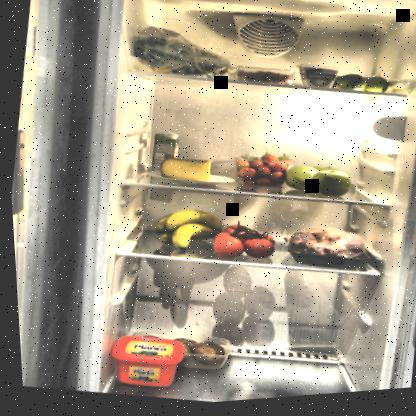apple: (276, 161, 353, 207)
banana: (144, 204, 224, 261)
butter: (99, 330, 184, 397)
cheese: (153, 154, 213, 190)
chicken: (274, 219, 375, 282)
heavy_cream: (144, 131, 180, 181)
lime: (333, 74, 390, 103)
potato: (163, 330, 231, 375)
shrimp: (237, 69, 294, 93)
spinach: (122, 19, 242, 92)
strawberries: (228, 150, 293, 195)
tomato: (206, 218, 277, 269)
